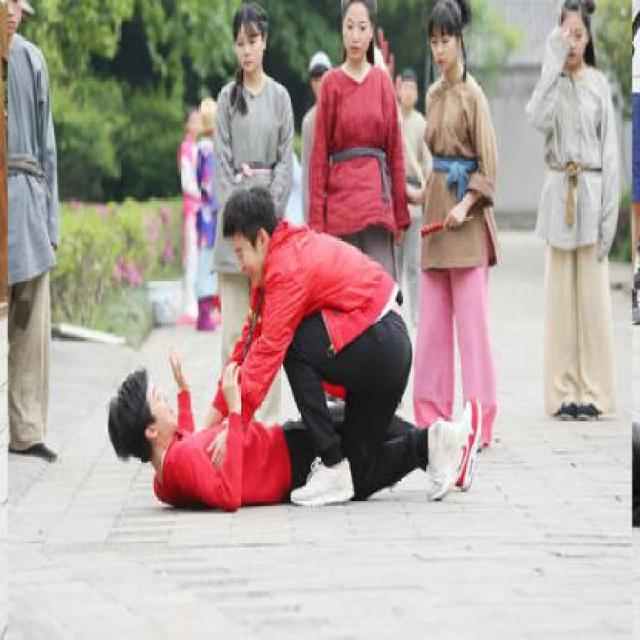fall: (101, 337, 476, 509)
